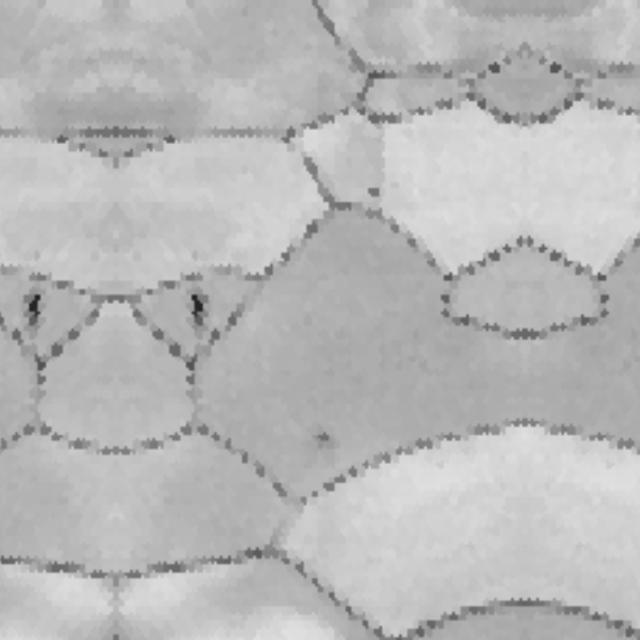good_void: (178, 282, 214, 345), (16, 282, 52, 345), (309, 420, 343, 455), (364, 185, 382, 202)
